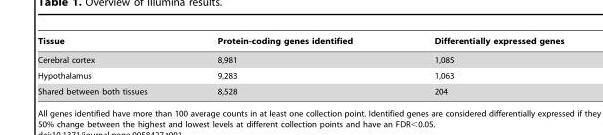table: (37, 36, 563, 95)
table column: (181, 36, 392, 95), (392, 36, 563, 95), (37, 36, 181, 95)
table column header: (37, 36, 563, 50)
table row: (37, 50, 563, 67), (37, 67, 563, 83), (37, 36, 563, 50), (37, 83, 563, 95)
